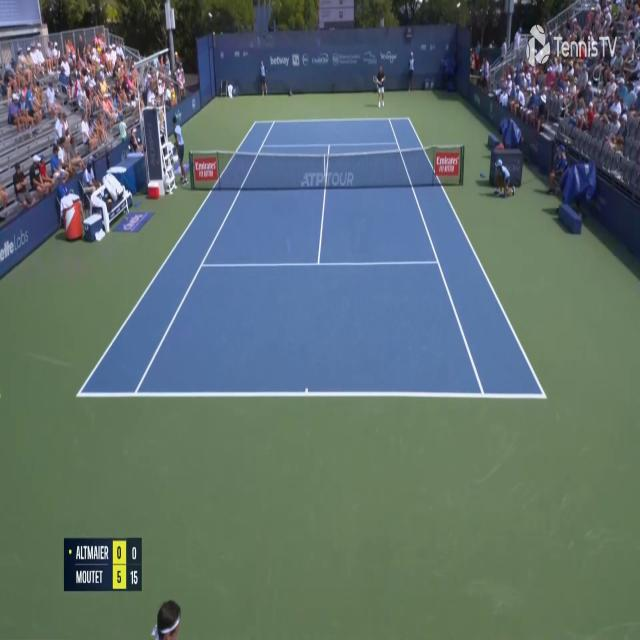tennis-player: (371, 61, 387, 108)
